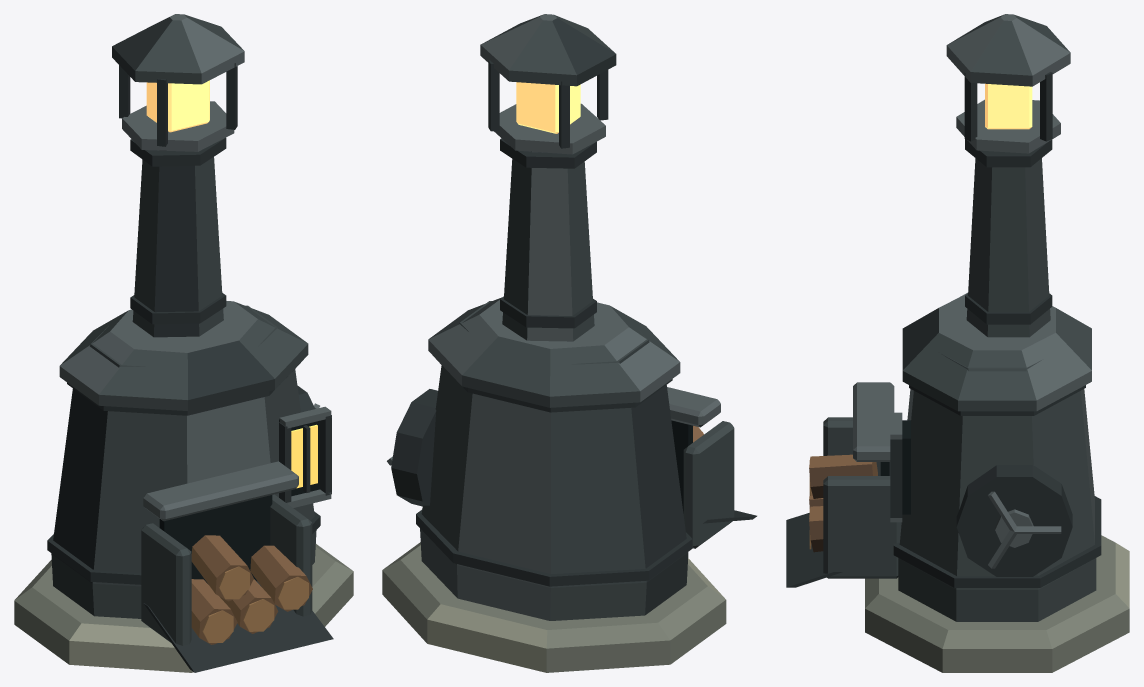
The picture shows the model from 3 angles, left to right: view 1: azimuth 30°, elevation 25°; view 2: azimuth 150°, elevation 25°; view 3: azimuth 270°, elevation 25°; orthographic projection.
Parts seen in each view (by area): view 1: Generator_Mesh; view 2: Generator_Mesh; view 3: Generator_Mesh.
Part boxes in pixels (<box>): Generator_Mesh: <box>14,14,353,672</box>; Generator_Mesh: <box>382,14,756,672</box>; Generator_Mesh: <box>786,14,1129,672</box>.
Bounding box in the file's own units: 4.34 × 8.58 × 4.56.
2 materials, 2 textured.
